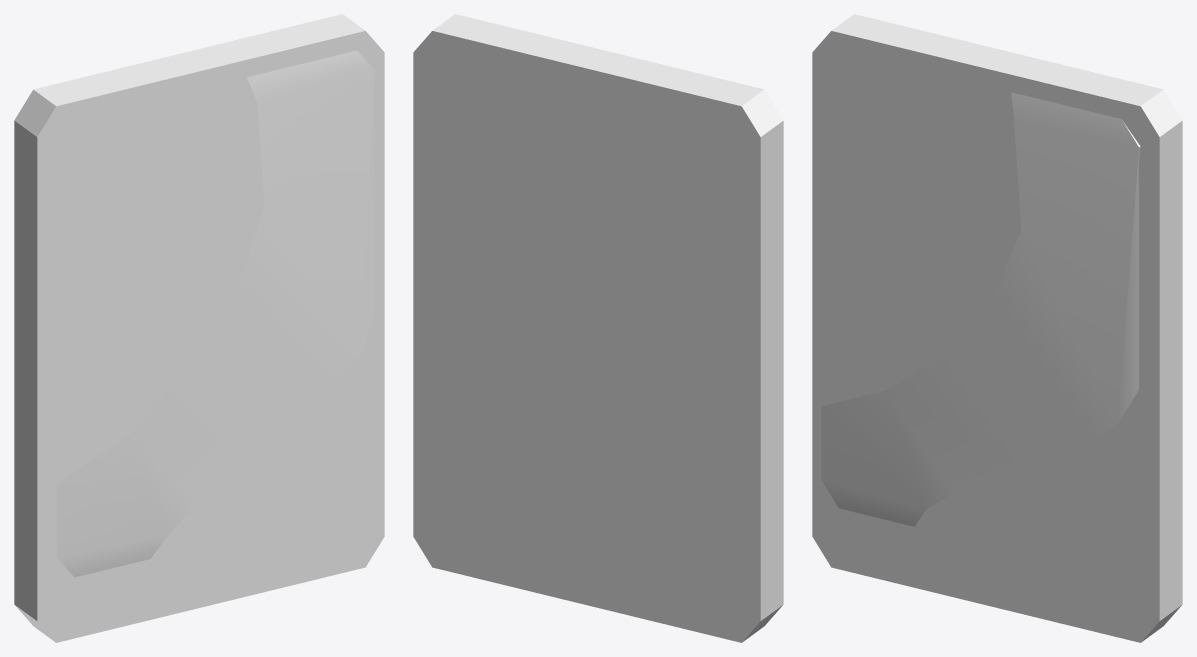
File: penguinCellPhone.fbx
3 views of the same model, side by side, from view 1: azimuth 30°, elevation 25°; view 2: azimuth 150°, elevation 25°; view 3: azimuth 330°, elevation 25° (orthographic).
Visible parts, largest first — view 1: penguinCellPhone; view 2: penguinCellPhone; view 3: penguinCellPhone.
Part boxes in pixels (bbox=[...]): penguinCellPhone: bbox=[14, 14, 384, 642]; penguinCellPhone: bbox=[413, 14, 783, 642]; penguinCellPhone: bbox=[812, 14, 1182, 642].
Bounding box in the file's own units: 10.1 × 14.91 × 1.62.
